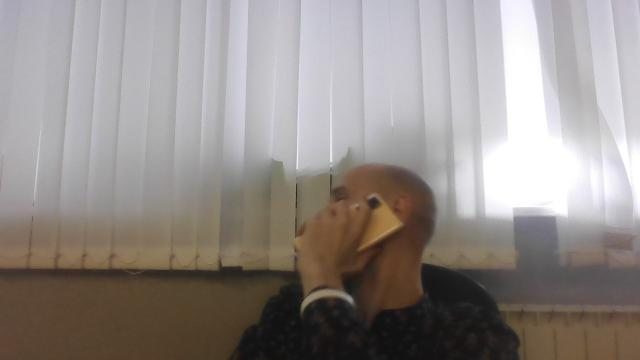Phone: (292, 188, 406, 256)
